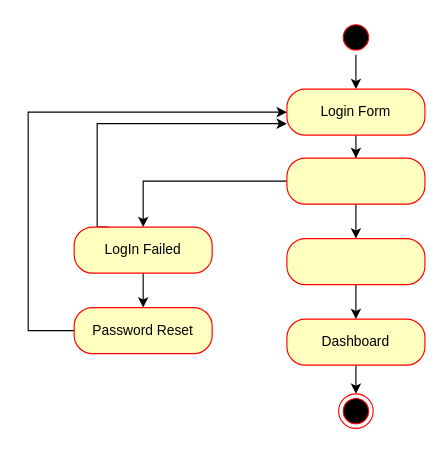
The diagram is 445 pixels wide and 449 high, and some of its shapes have lost their labels. The shapes that lost their labels are listed below. From the top down, each one's box as (x1, y1, x2, y2) in pixels, then its label:
(286, 157, 425, 204): Validating Credentials
(286, 237, 425, 285): Logged In State
